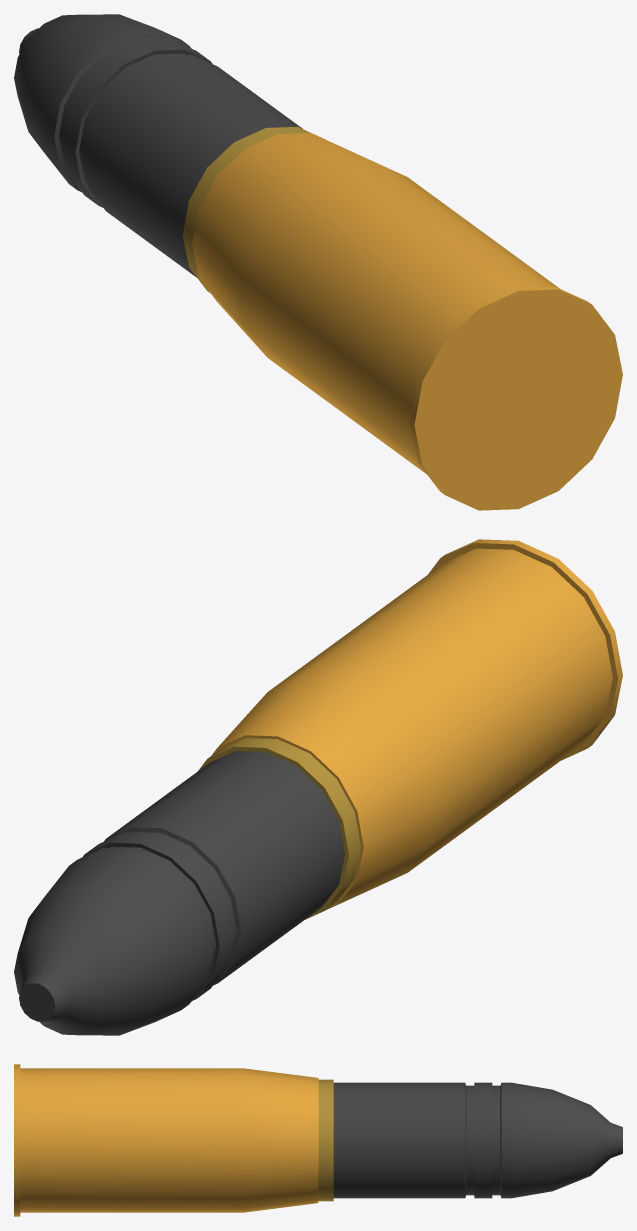
File: heat_shell_76.fbx
The picture shows the model from 3 angles, top to bottom: view 1: azimuth 30°, elevation 25°; view 2: azimuth 150°, elevation 25°; view 3: azimuth 270°, elevation 25°; orthographic projection. The views are drawn at different scales.
Visible parts, largest first — view 1: Case; view 2: Case; view 3: Case.
Part boxes in pixels (bbox=[...]): Case: bbox=[14, 14, 622, 510]; Case: bbox=[14, 539, 622, 1035]; Case: bbox=[14, 1064, 622, 1216].
Bounding box in the file's own units: 100 × 100 × 400.
